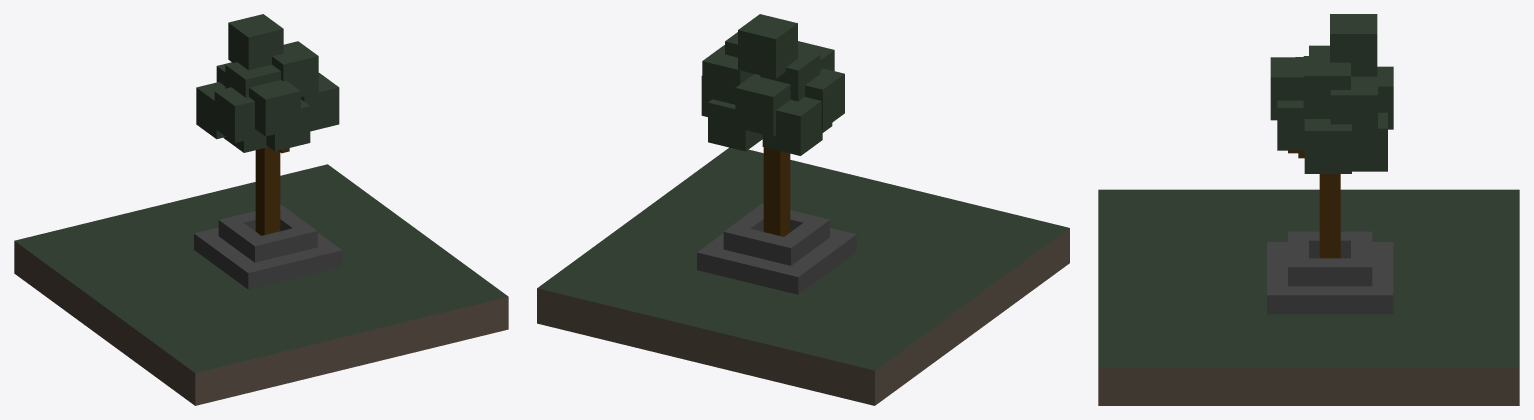
Rendered from park-1.glb.
The picture shows the model from 3 angles, left to right: view 1: azimuth 30°, elevation 25°; view 2: azimuth 150°, elevation 25°; view 3: azimuth 270°, elevation 25°; orthographic projection. The views are drawn at different scales.
Visible parts, largest first — view 1: Cube.133; view 2: Cube.133; view 3: Cube.133.
Part boxes in pixels (left/top/right/bottom): Cube.133: left=14, top=14, right=508, bottom=405; Cube.133: left=537, top=14, right=1069, bottom=405; Cube.133: left=1098, top=14, right=1519, bottom=405.
Size of the model in its own units: 1 by 0.7875 by 1.
